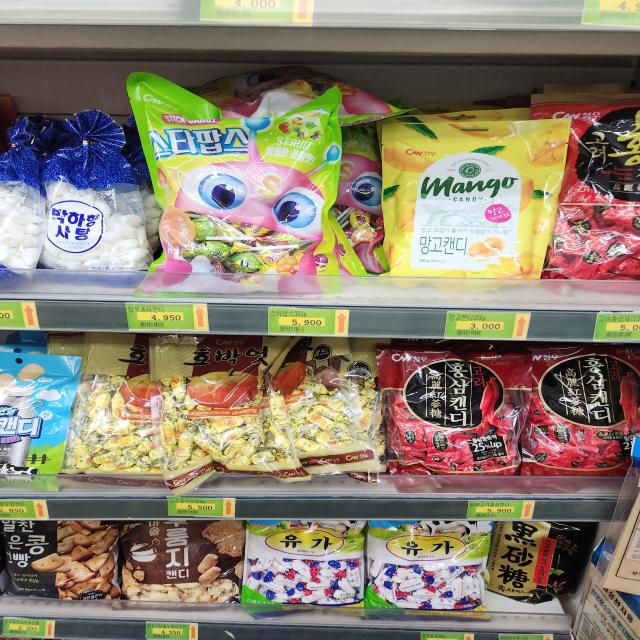product: (129, 74, 345, 296), (382, 125, 547, 290), (148, 339, 304, 484), (377, 347, 528, 493), (29, 130, 162, 288), (515, 342, 640, 480), (368, 516, 494, 624)
